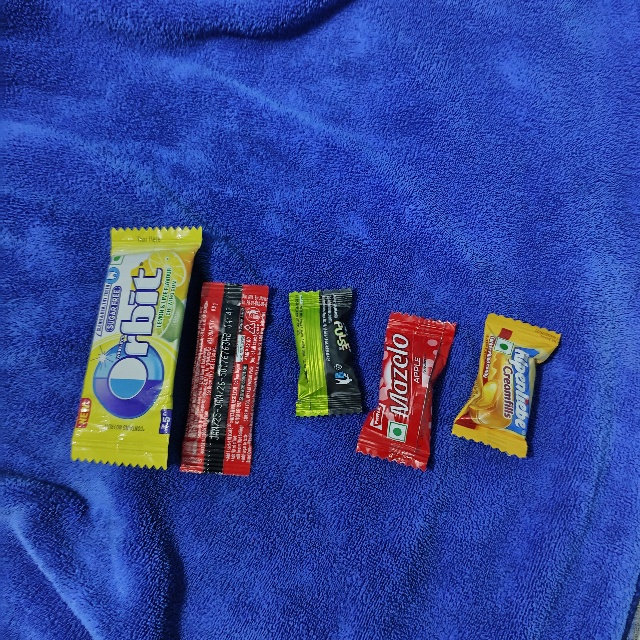Alpenlibe Creamfills: (498, 303, 571, 448)
Mazelo: (390, 306, 459, 464)
Nescafe Coffee: (205, 275, 273, 471)
Orbit: (108, 213, 205, 462)
Pulse: (288, 291, 367, 419)
